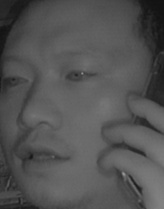eye: (63, 64, 97, 85), (3, 71, 29, 90)
mouth: (16, 135, 72, 175)
